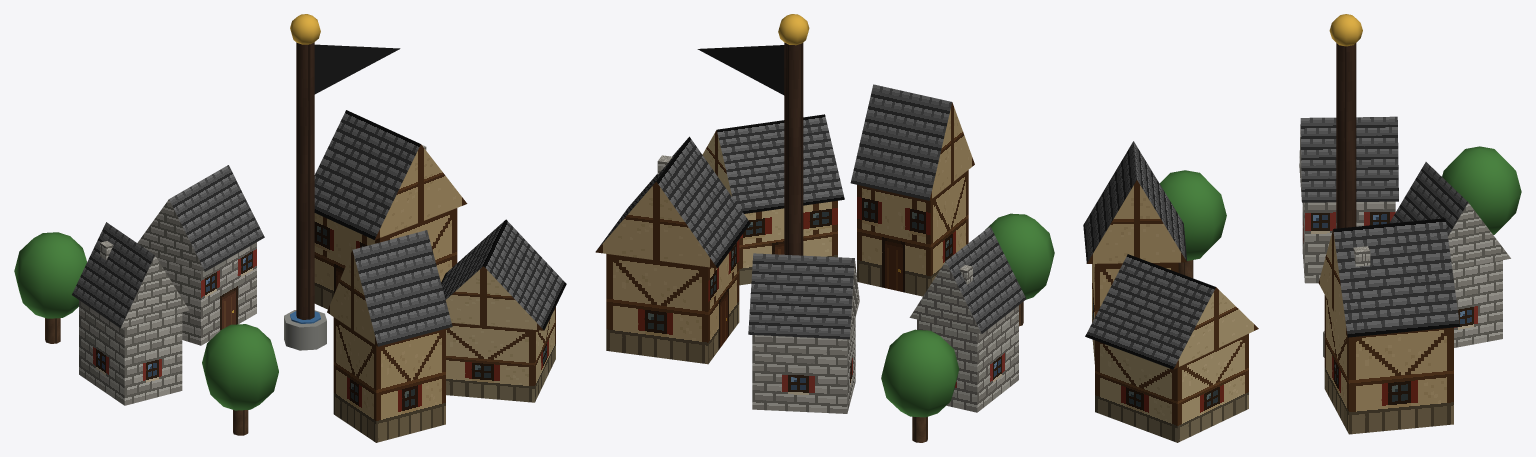
File: pueblo.glb
The picture shows the model from 3 angles, left to right: view 1: azimuth 30°, elevation 25°; view 2: azimuth 150°, elevation 25°; view 3: azimuth 270°, elevation 25°; orthographic projection. The views are drawn at different scales.
Parts seen in each view (by area): view 1: pueblo; view 2: pueblo; view 3: pueblo.
Part boxes in pixels (x1,y1,x2,y2): pueblo: (14,14,566,442); pueblo: (595,14,1054,442); pueblo: (1083,14,1521,442).
Size of the model in its own units: 0.6238 by 0.4838 by 0.5637.
19 materials, 14 textured.
